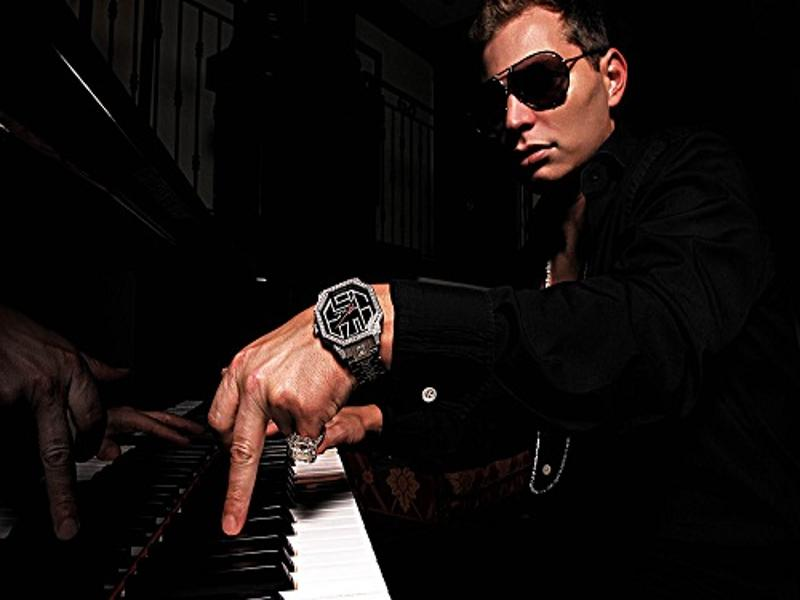watch: (311, 277, 386, 386)
